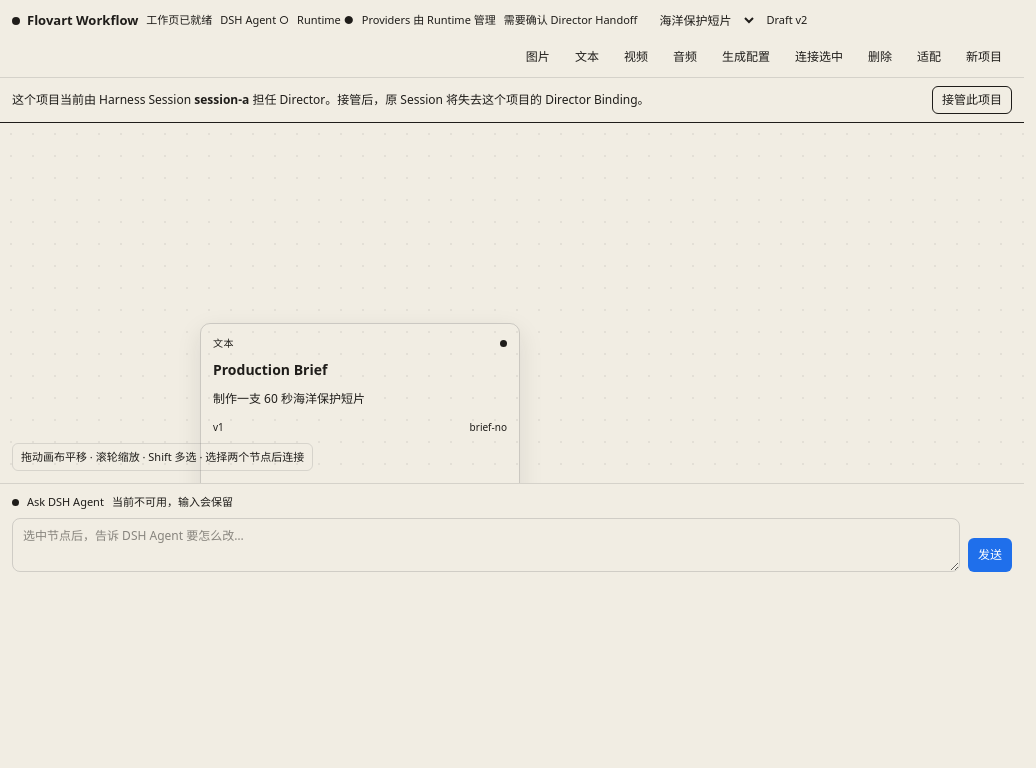
Scenario: DeepSeek Harness native Workflow view › requires an explicit visible Handoff before taking a project from another Harness Session
This screenshot has width=1036, height=768.
Expected: the message shows "session-a", [194,91,249,108]
Expected: the message shows "接管后，原 Session 将失去这个项目的 Director Binding", [249,91,650,108]
Click the button "接管此项目".
click(972, 100)  # box [932,86,1012,114]
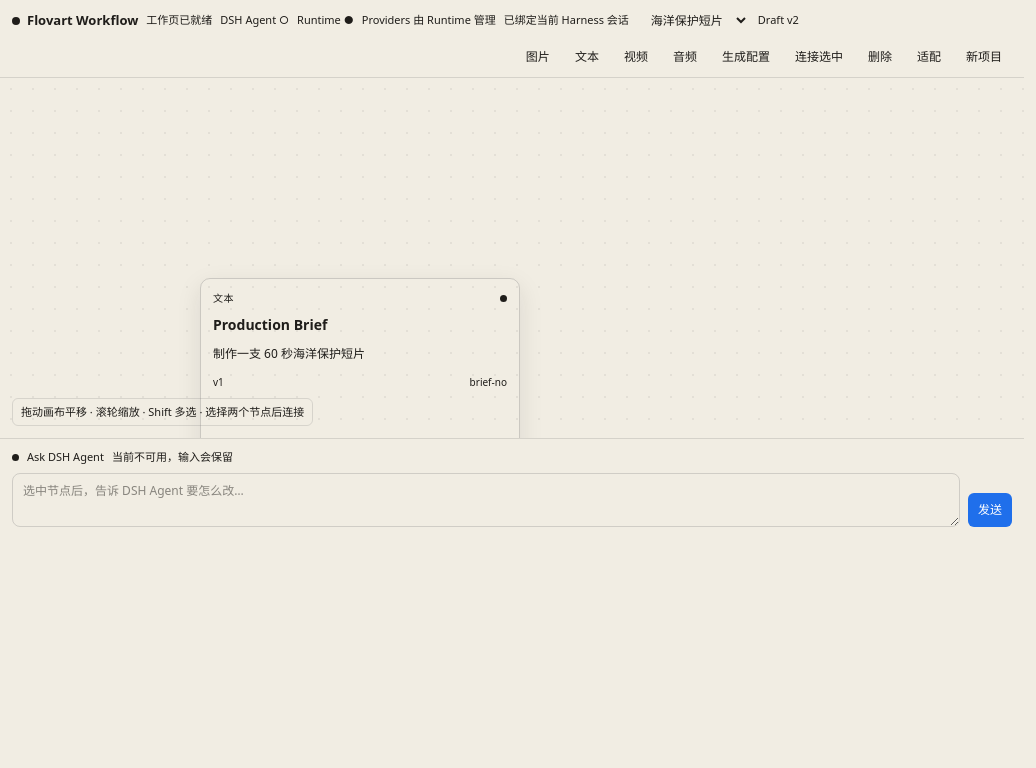
Expected: the message is gone
Expected: the text "已绑定当前 Harness 会话" is shown, [504,12,629,29]
